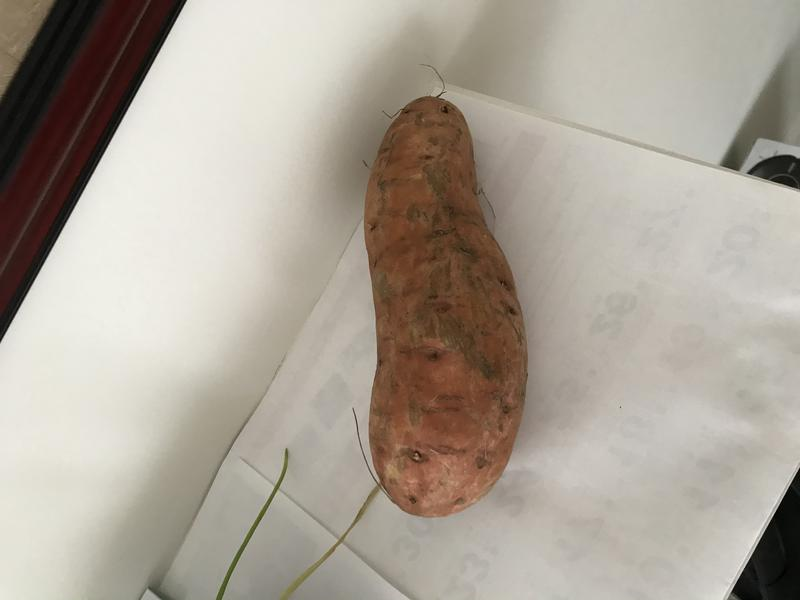sweet_potato: (346, 83, 541, 527)
